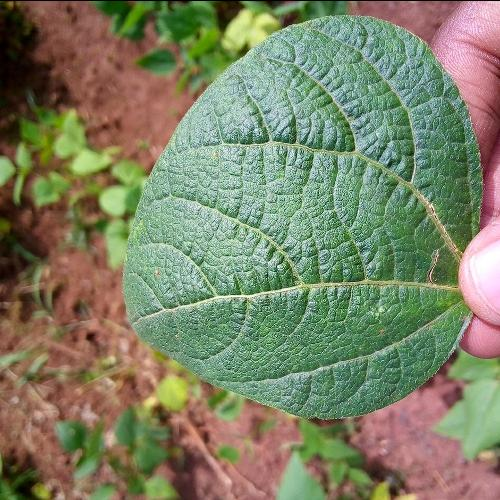sehat: (120, 10, 487, 420)
